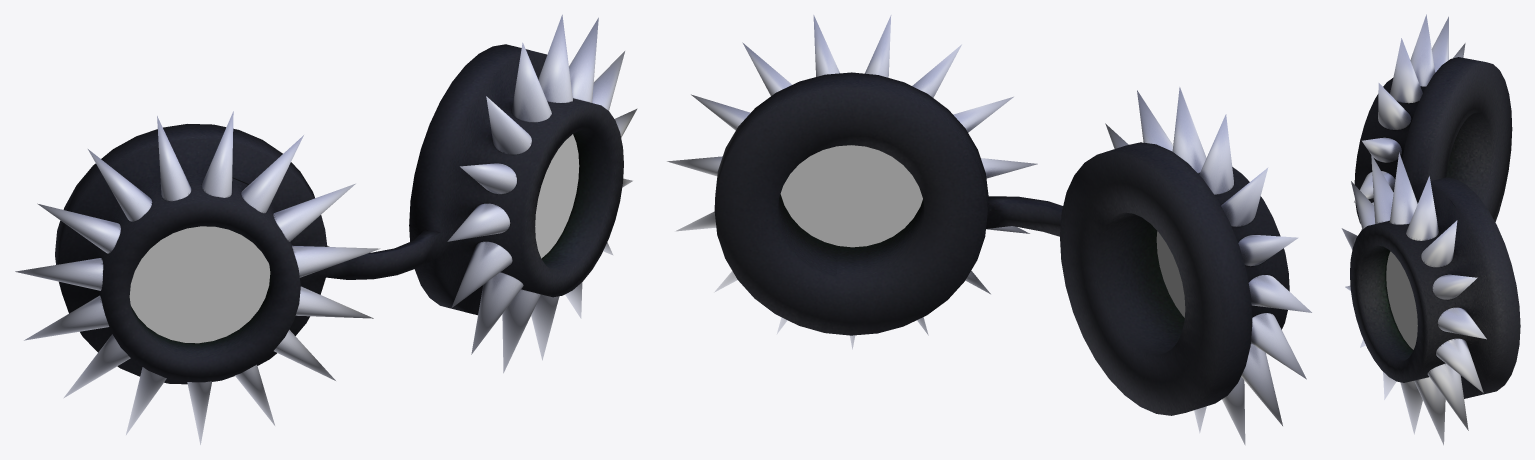
The model's file is SM_PunkGoggles_00.fbx.
3 views of the same model, side by side, from view 1: azimuth 30°, elevation 25°; view 2: azimuth 150°, elevation 25°; view 3: azimuth 270°, elevation 25° (orthographic). The views are drawn at different scales.
Visible parts, largest first — view 1: SM_PunkGoggles_00; view 2: SM_PunkGoggles_00; view 3: SM_PunkGoggles_00.
Part boxes in pixels (x1=…): SM_PunkGoggles_00: x1=15, y1=14, x2=637, y2=444; SM_PunkGoggles_00: x1=667, y1=15, x2=1311, y2=445; SM_PunkGoggles_00: x1=1341, y1=14, x2=1520, y2=445.
Bounding box in the file's own units: 26.17 × 13.2 × 7.88.
